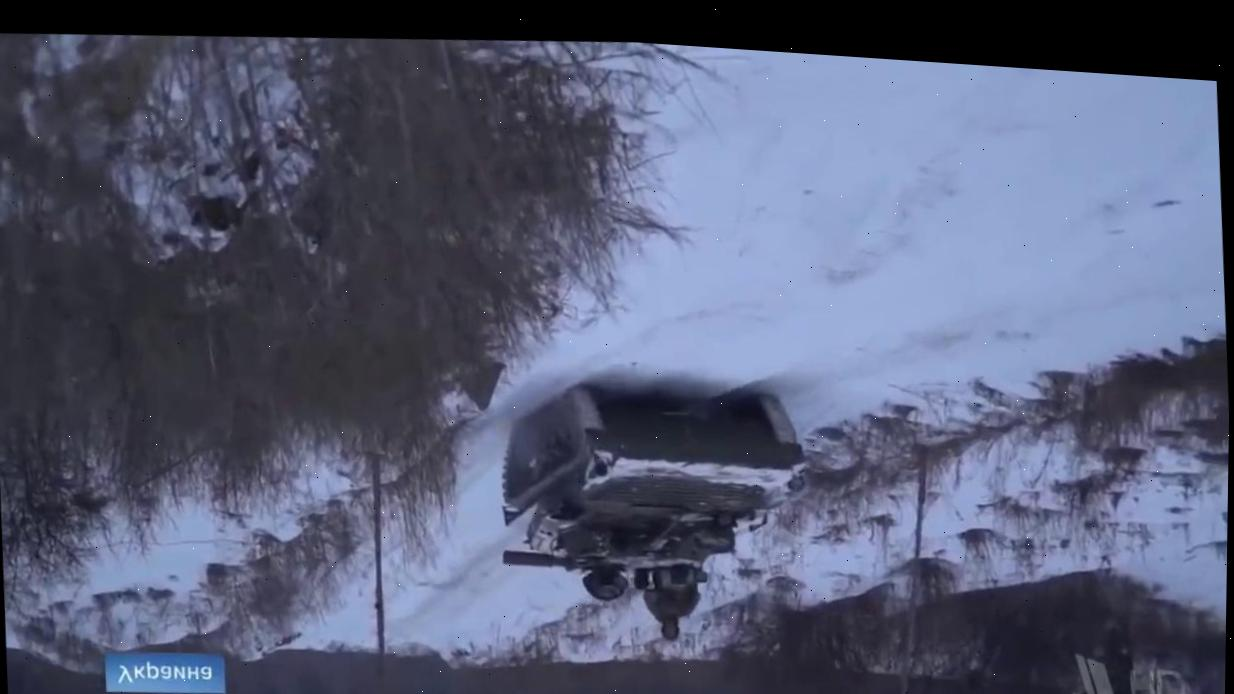person: (638, 566, 703, 645)
tank: (488, 361, 818, 596)
